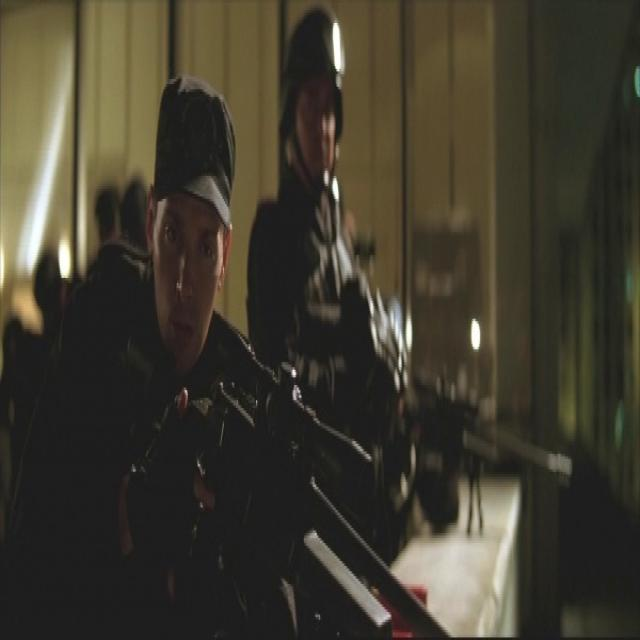rifle: (199, 324, 453, 640)
